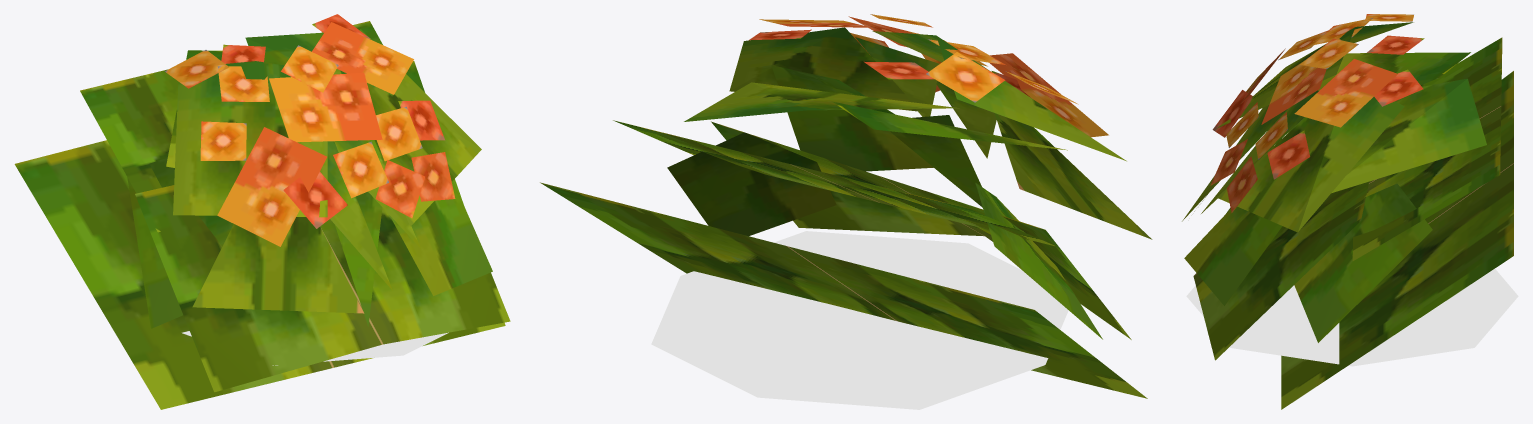
The model's file is fg_bushE_2.fbx.
3 views of the same model, side by side, from view 1: azimuth 30°, elevation 25°; view 2: azimuth 150°, elevation 25°; view 3: azimuth 270°, elevation 25° (orthographic). The views are drawn at different scales.
Visible parts, largest first — view 1: fg_bushE_2, sdw_circle; view 2: fg_bushE_2, sdw_circle; view 3: fg_bushE_2, sdw_circle.
Part boxes in pixels (x1,y1,x2,y2): fg_bushE_2: (14, 14, 510, 409); sdw_circle: (182, 331, 448, 365); fg_bushE_2: (540, 14, 1152, 398); sdw_circle: (651, 231, 1068, 409); fg_bushE_2: (1182, 14, 1513, 409); sdw_circle: (1186, 268, 1518, 366).
Bounding box in the file's own units: 0.1589 × 0.1111 × 0.1188.
2 materials, 2 textured.
